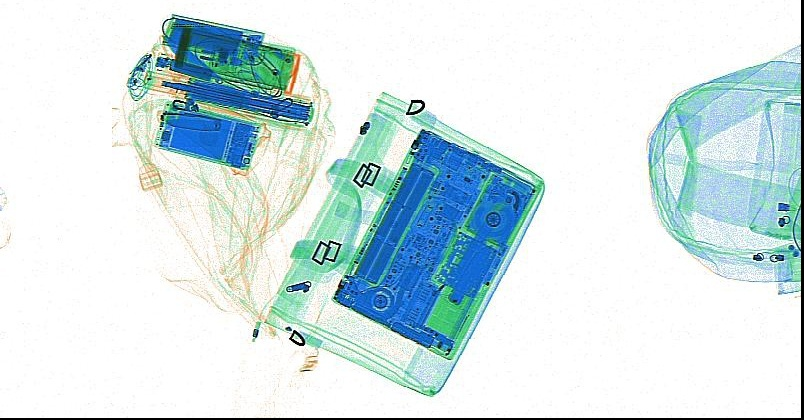knife: (161, 35, 224, 84), (447, 244, 491, 306)
